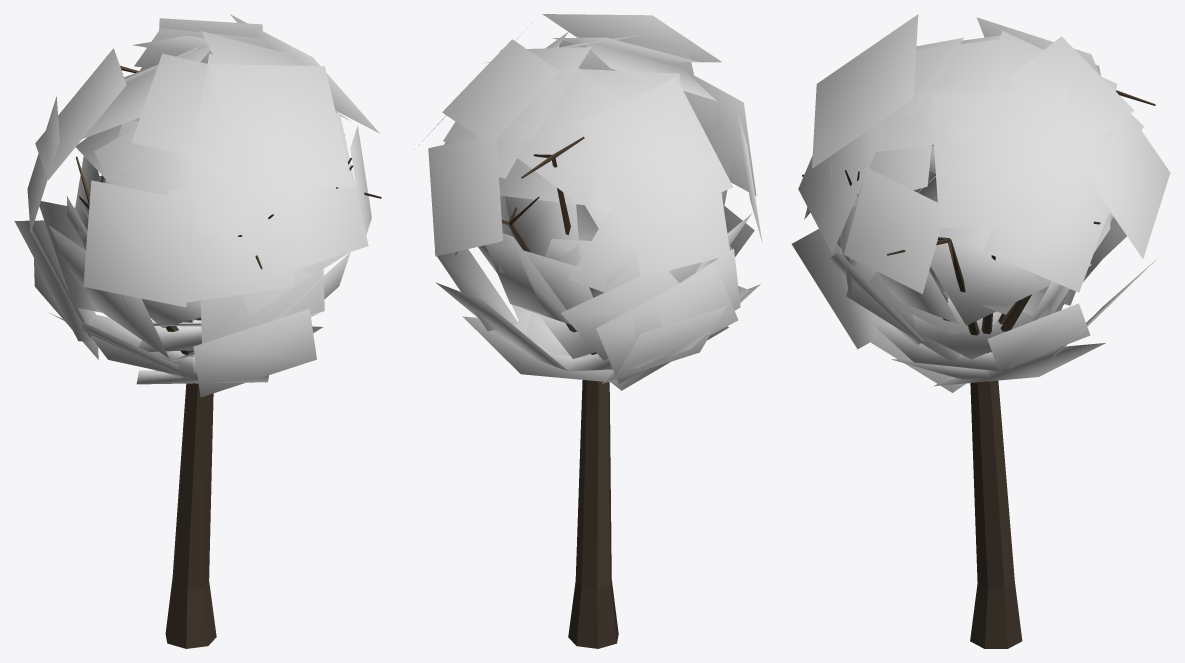
The model's file is field_elm.glb.
The picture shows the model from 3 angles, left to right: view 1: azimuth 30°, elevation 25°; view 2: azimuth 150°, elevation 25°; view 3: azimuth 270°, elevation 25°; orthographic projection. The views are drawn at different scales.
Visible parts, largest first — view 1: field_elm; view 2: field_elm; view 3: field_elm.
Part boxes in pixels (<box>): field_elm: <box>14,14,381,648</box>; field_elm: <box>414,14,762,648</box>; field_elm: <box>791,14,1170,648</box>.
Bounding box in the file's own units: 5.73 × 10.61 × 5.93.
2 materials, 1 textured.
